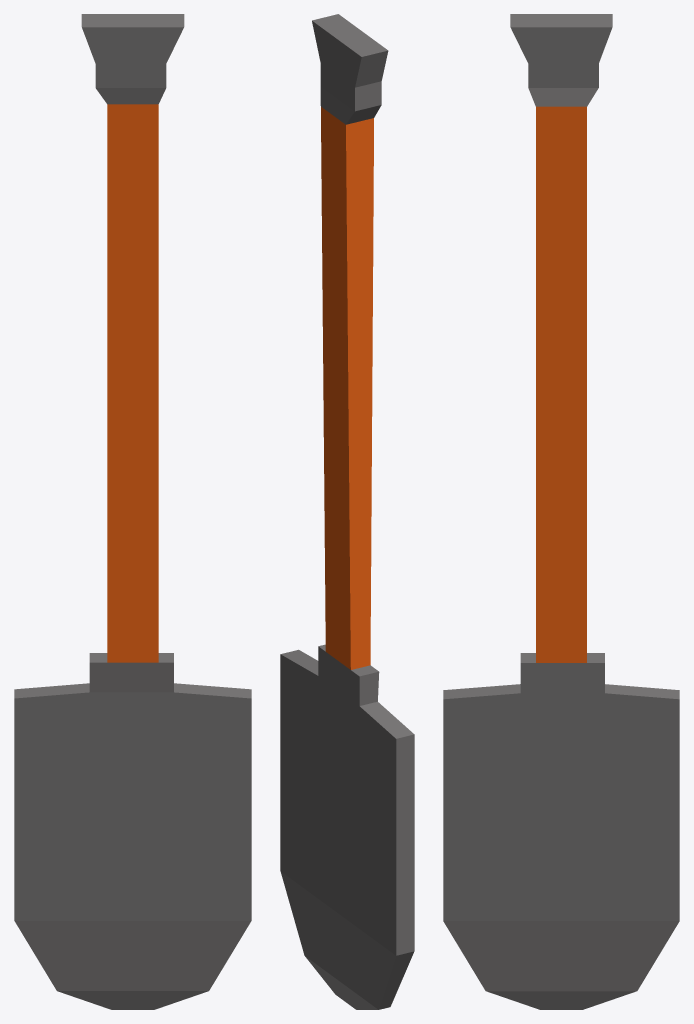
Rendered from lowpoly_showel.glb.
3 views of the same model, side by side, from view 1: azimuth 90°, elevation 25°; view 2: azimuth 210°, elevation 25°; view 3: azimuth 270°, elevation 25° (orthographic). The views are drawn at different scales.
Parts seen in each view (by area): view 1: Cube; view 2: Cube; view 3: Cube.
Part boxes in pixels (bbox=[...]): Cube: bbox=[14, 14, 251, 1009]; Cube: bbox=[280, 14, 414, 1009]; Cube: bbox=[443, 14, 679, 1009].
Bounding box in the file's own units: 48.02 × 1473 × 320.
